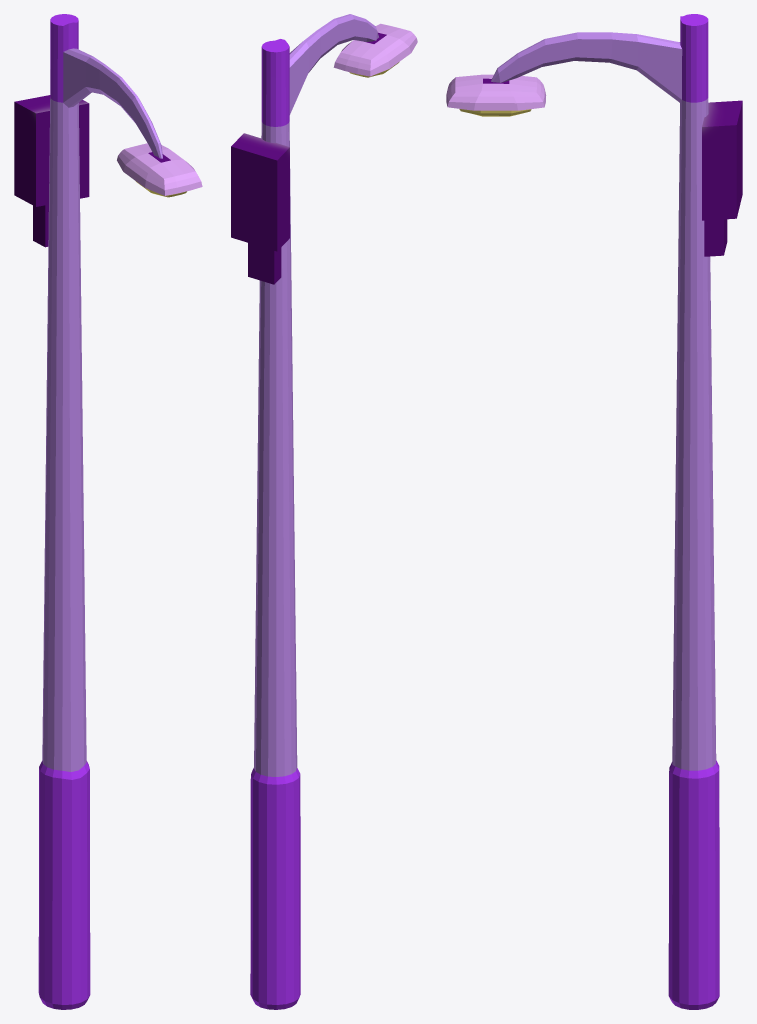
Rendered from poste.fbx.
3 views of the same model, side by side, from view 1: azimuth 30°, elevation 25°; view 2: azimuth 150°, elevation 25°; view 3: azimuth 270°, elevation 25° (orthographic). The views are drawn at different scales.
Visible parts, largest first — view 1: Poste; view 2: Poste; view 3: Poste.
Part boxes in pixels (x1,y1,x2,y2): Poste: (14,14,202,1009); Poste: (231,14,417,1009); Poste: (446,14,742,1009).
Bounding box in the file's own units: 110 × 1774 × 485.
Materials: 1 (1 with a texture image).
